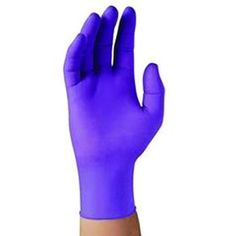gloves: (63, 5, 165, 217)
